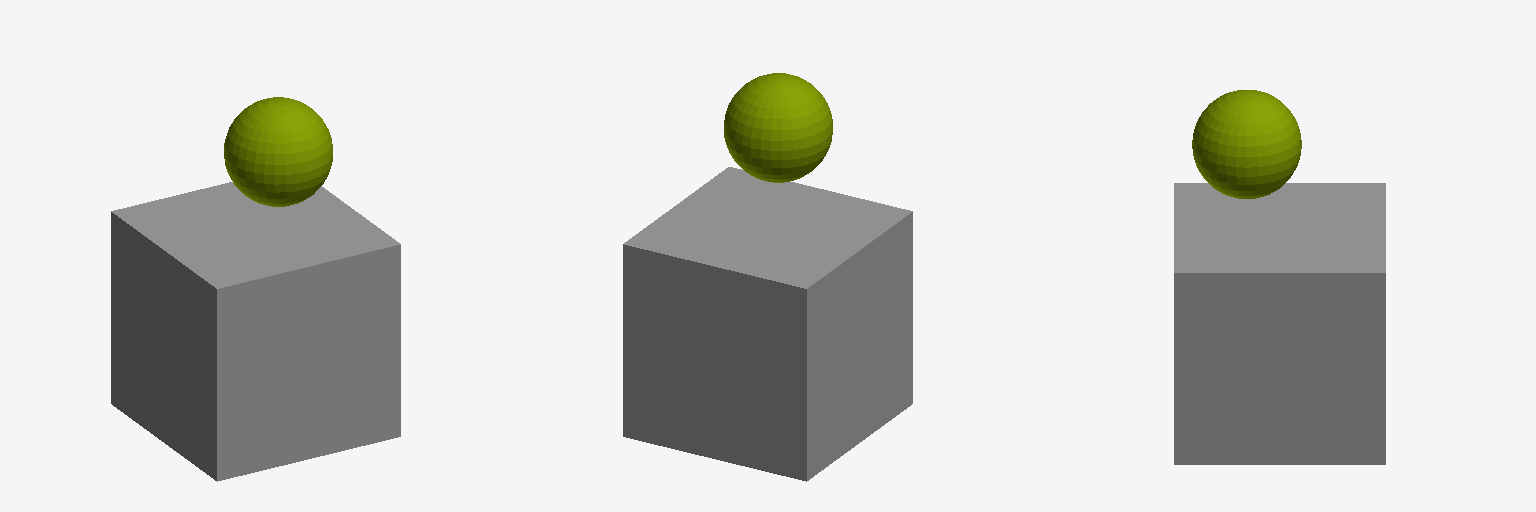
The model's file is textured-things.obj.
The picture shows the model from 3 angles: view 1: azimuth 30°, elevation 25°; view 2: azimuth 150°, elevation 25°; view 3: azimuth 270°, elevation 25°; orthographic projection.
Visible parts, largest first — view 1: Cube, Sphere; view 2: Cube, Sphere; view 3: Cube, Sphere.
Part boxes in pixels (x1,y1,x2,y2): Cube: (111, 182, 400, 481); Sphere: (224, 97, 332, 206); Cube: (623, 167, 912, 481); Sphere: (724, 73, 832, 182); Cube: (1174, 183, 1385, 464); Sphere: (1192, 90, 1301, 198).
Bounding box in the file's own units: 2 × 3.41 × 2.